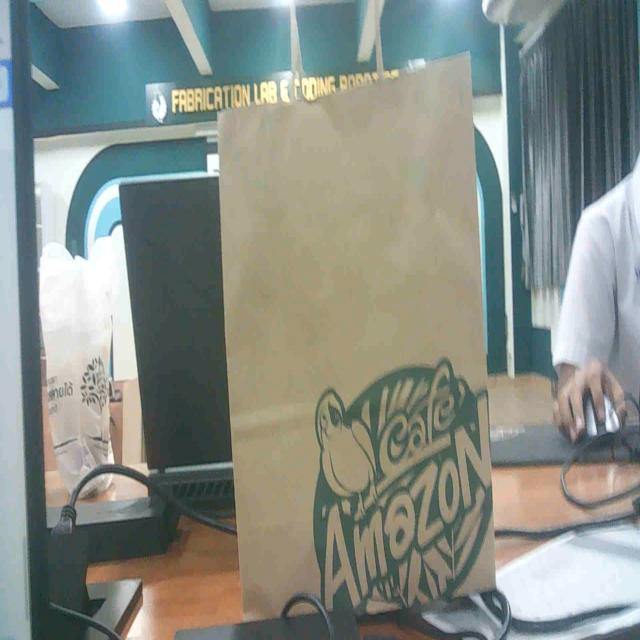bag: (200, 48, 516, 605)
